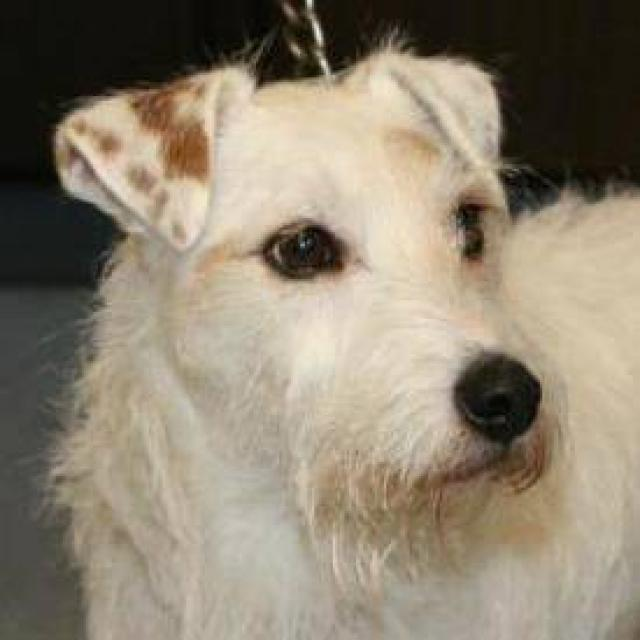dog: (35, 14, 638, 638)
